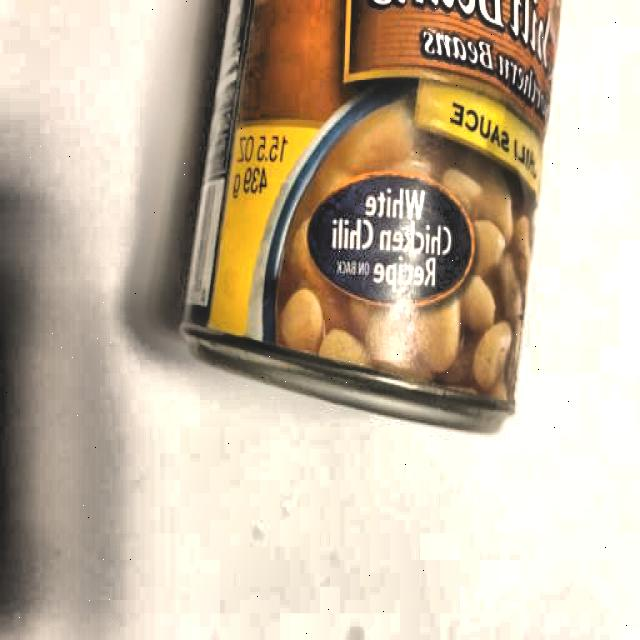metal: (177, 0, 565, 413)
